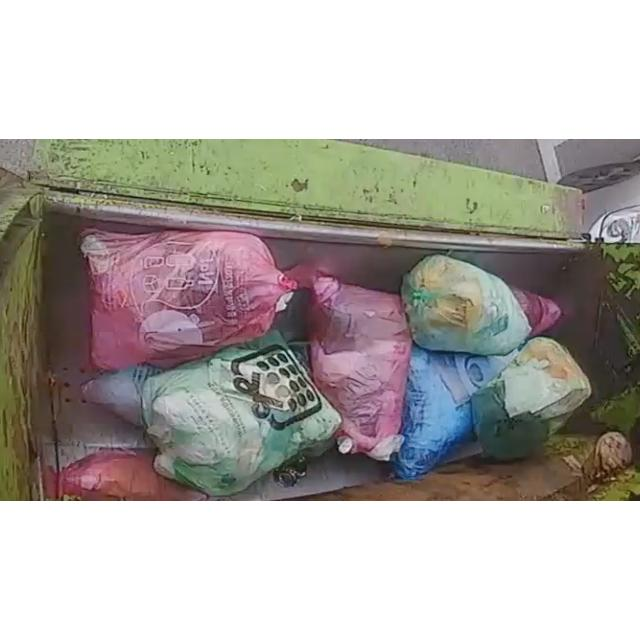general_trashbag: (142, 332, 341, 496), (471, 338, 591, 460), (401, 255, 531, 355)
other_trashbag: (80, 229, 296, 369), (310, 274, 411, 460), (392, 345, 519, 480), (61, 449, 208, 501), (510, 286, 561, 336)
